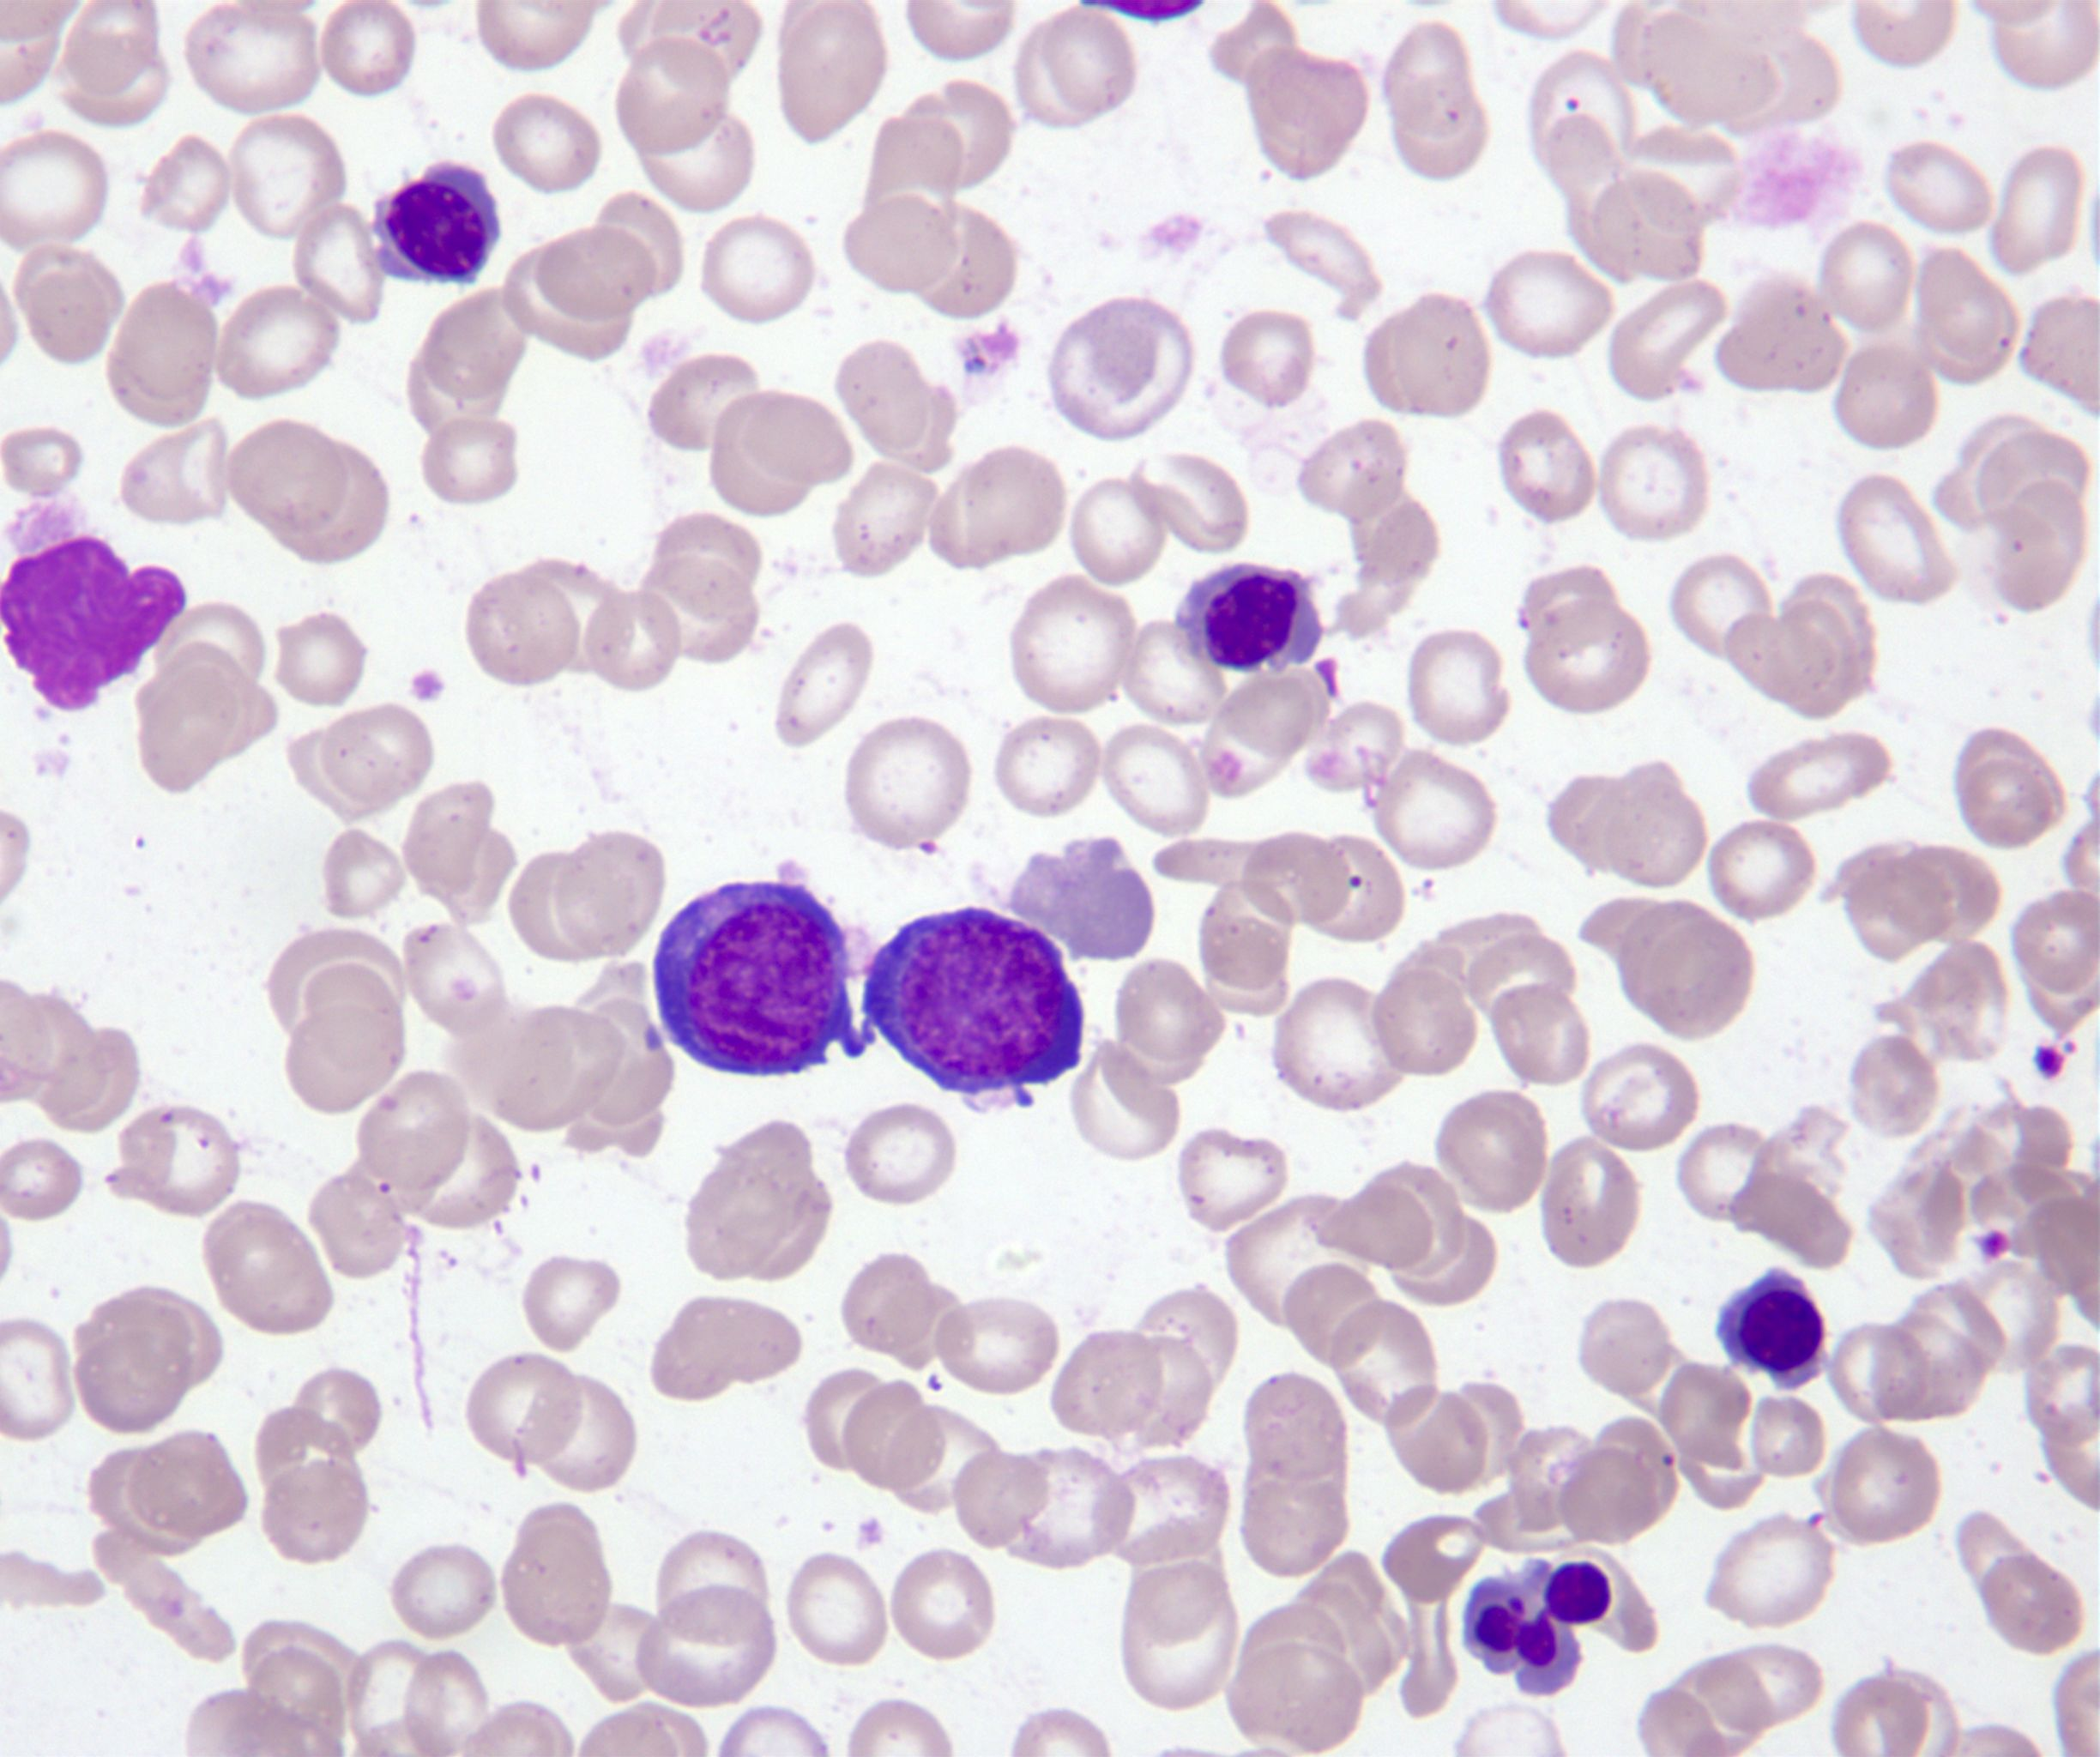23: (654, 885, 865, 1077), (865, 907, 1083, 1092)
24: (1462, 1555, 1612, 1698), (1176, 565, 1320, 675), (370, 164, 499, 284), (1718, 1268, 1826, 1389)
x: (2, 496, 187, 712)
